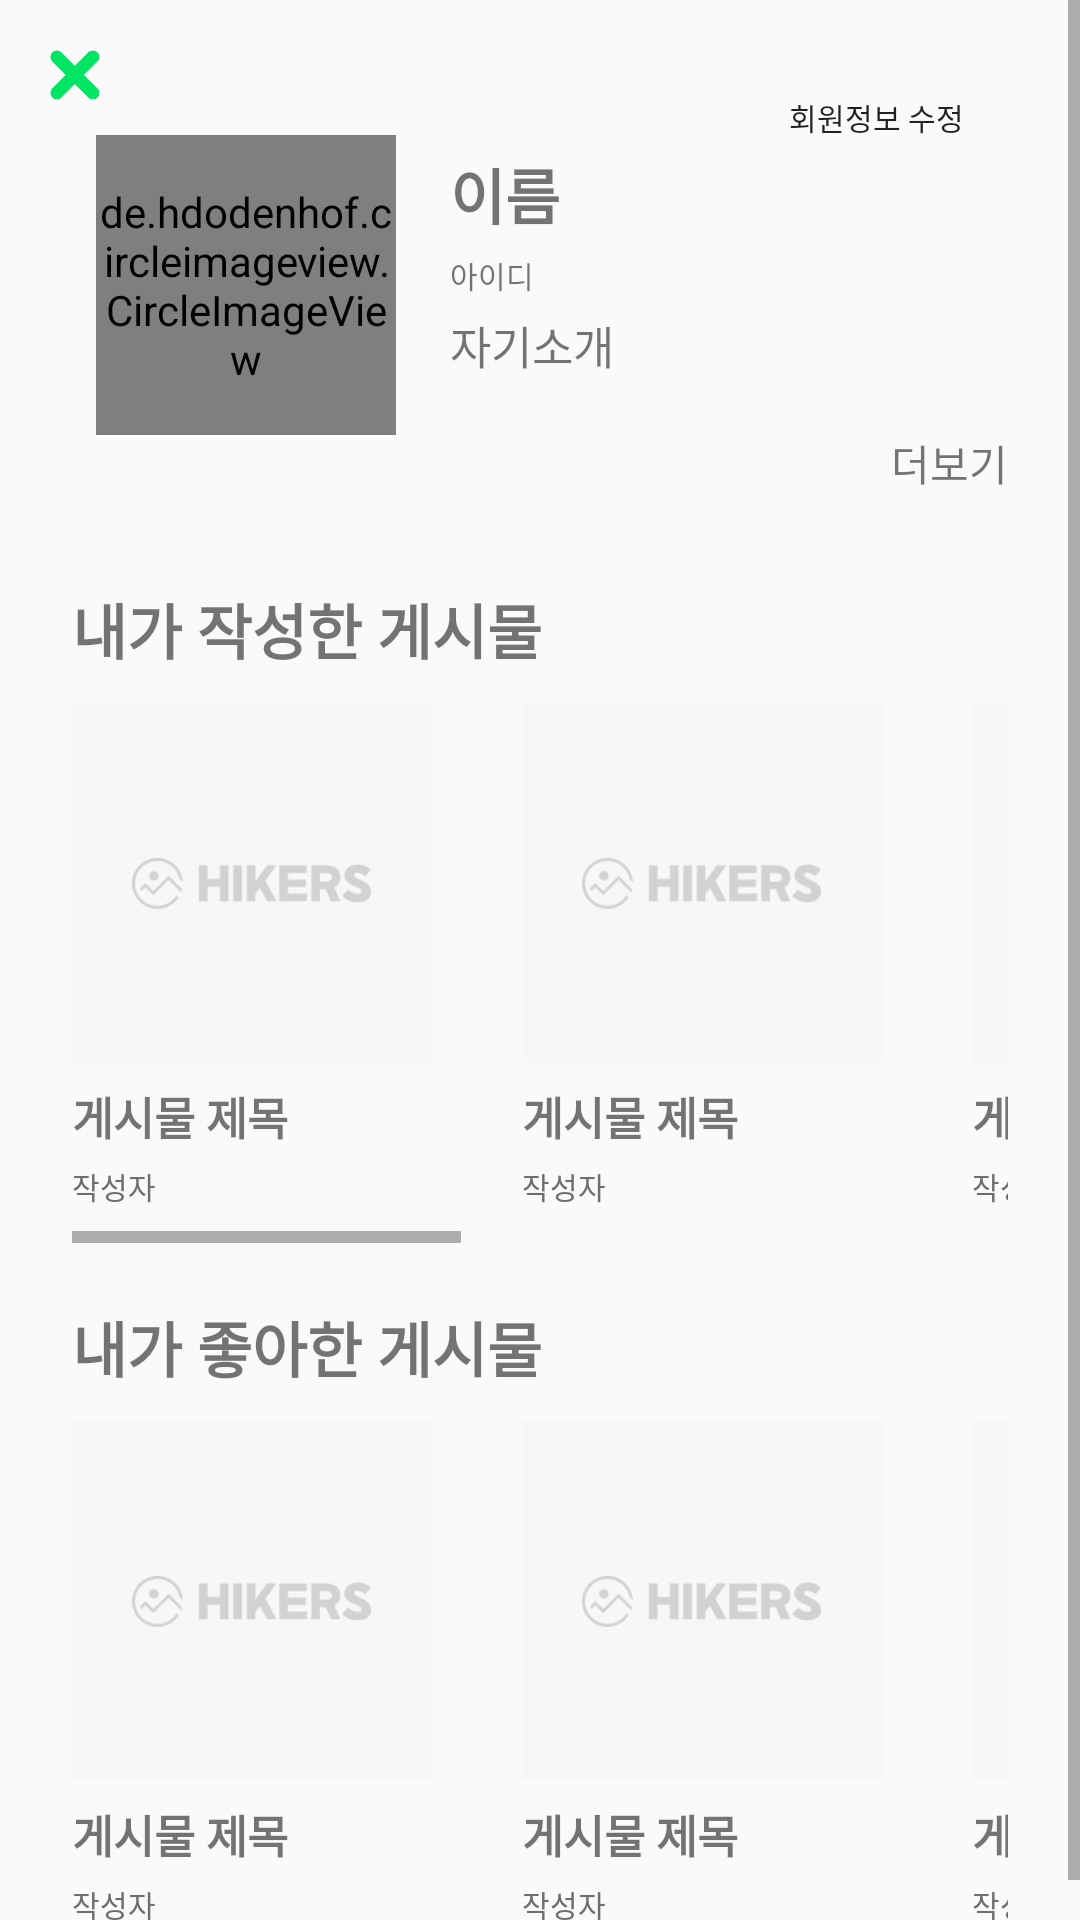

Locate icon controls on the screen. Image size 1080px x 1920px, boxes as (left=x1, top=y1, right=x2, bottom=y2).
close: (left=50, top=50, right=99, bottom=99)
